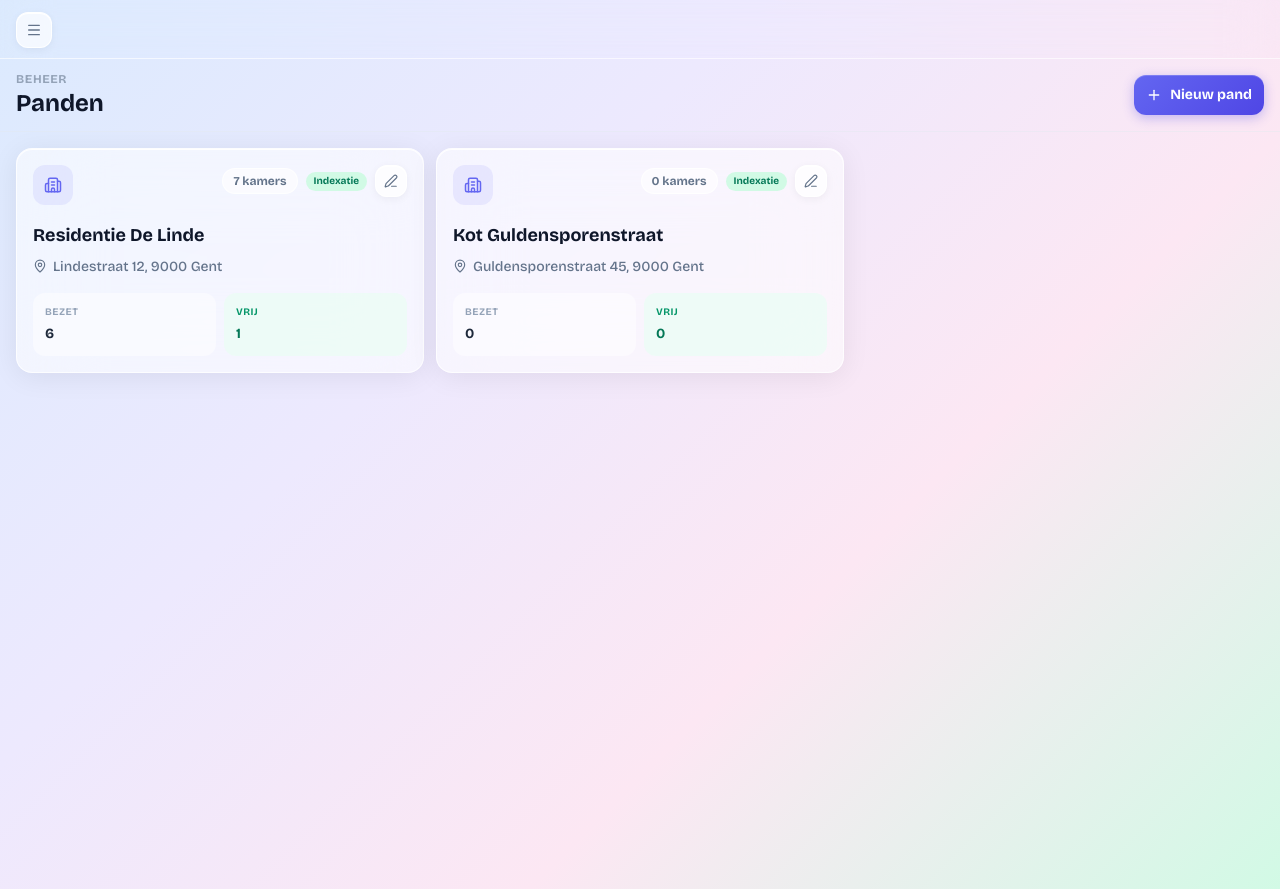
Test: PropertiesPage › voegt een kamer toe aan een bestaand pand
The image size is (1280, 889).
Click the button with aria-label "Open Residentie De Linde" at (119,235), box x1=33 y1=221 x2=407 y2=356
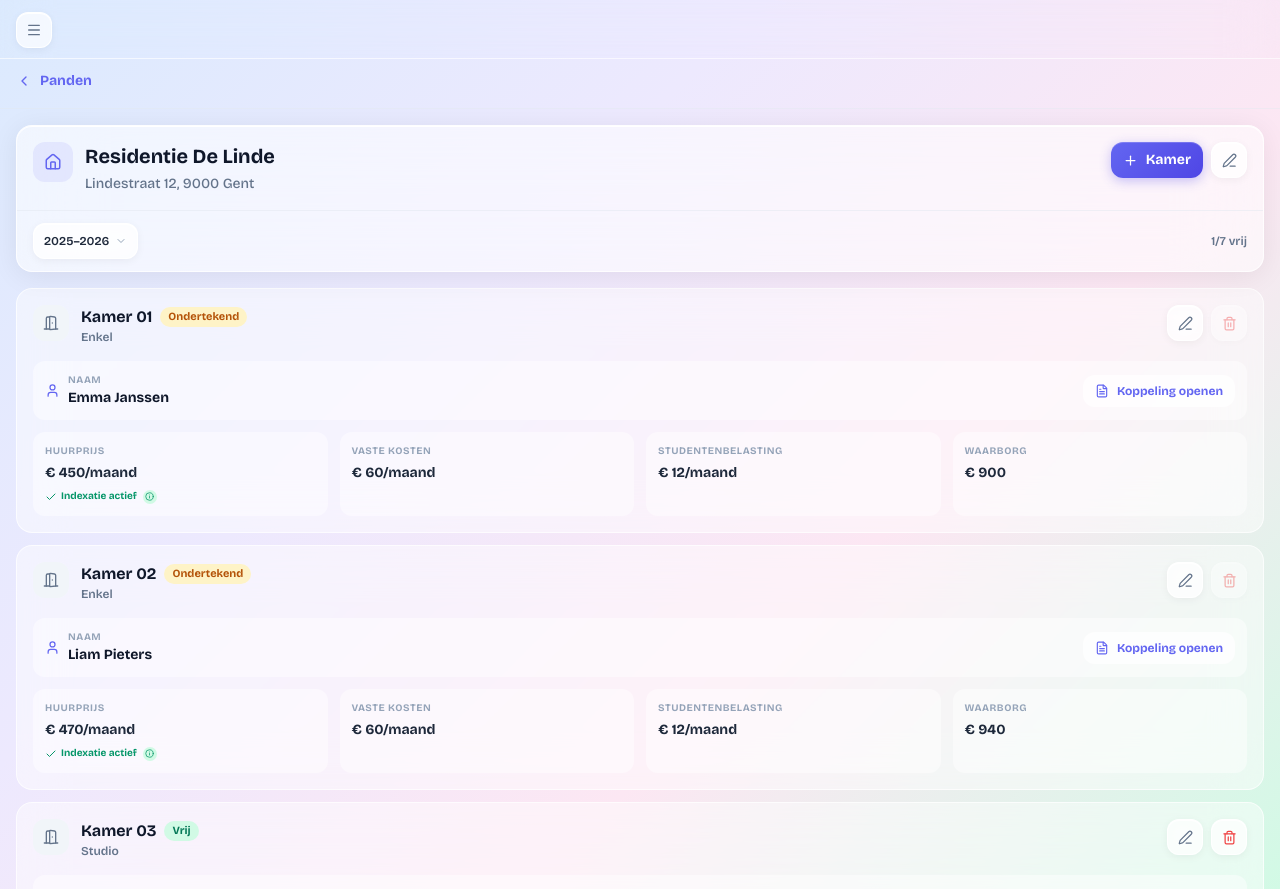
Click the button "Kamer" at (1157,160), box x1=1111 y1=142 x2=1203 y2=178
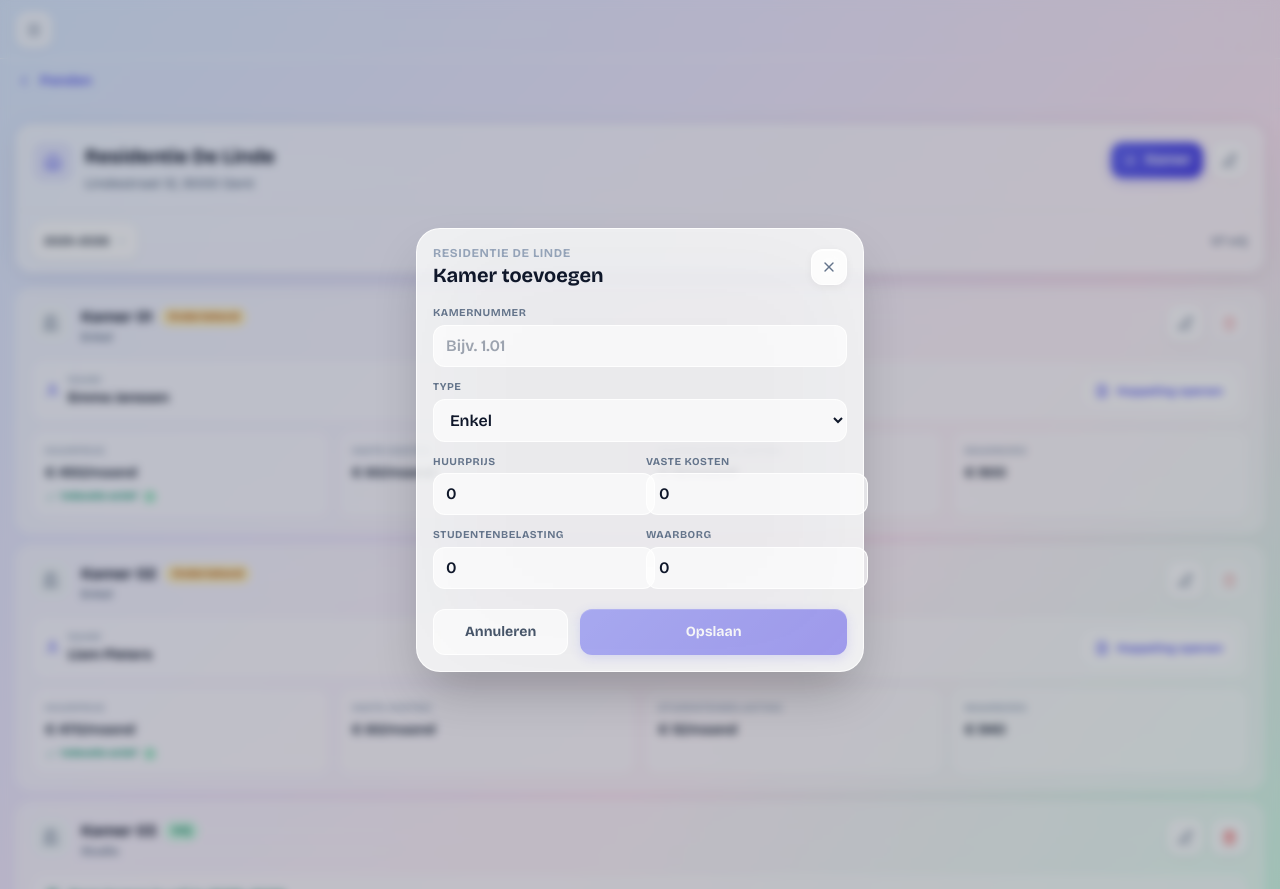
Type "08" into the field labelled "Kamernummer" at (640,346), box x1=433 y1=325 x2=847 y2=367
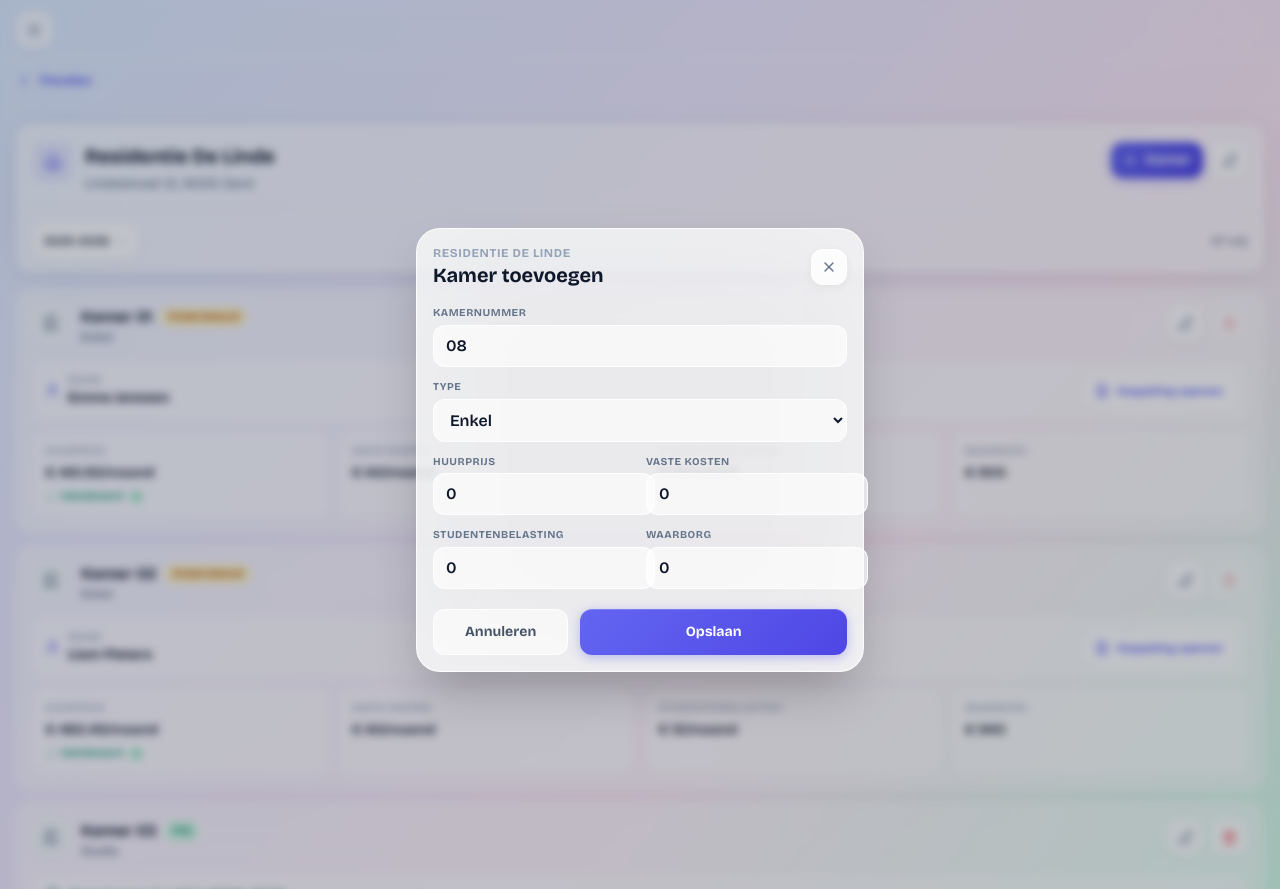
Replace the text in the number field labelled "Huurprijs" with "510" at (544,494), box x1=433 y1=473 x2=655 y2=515
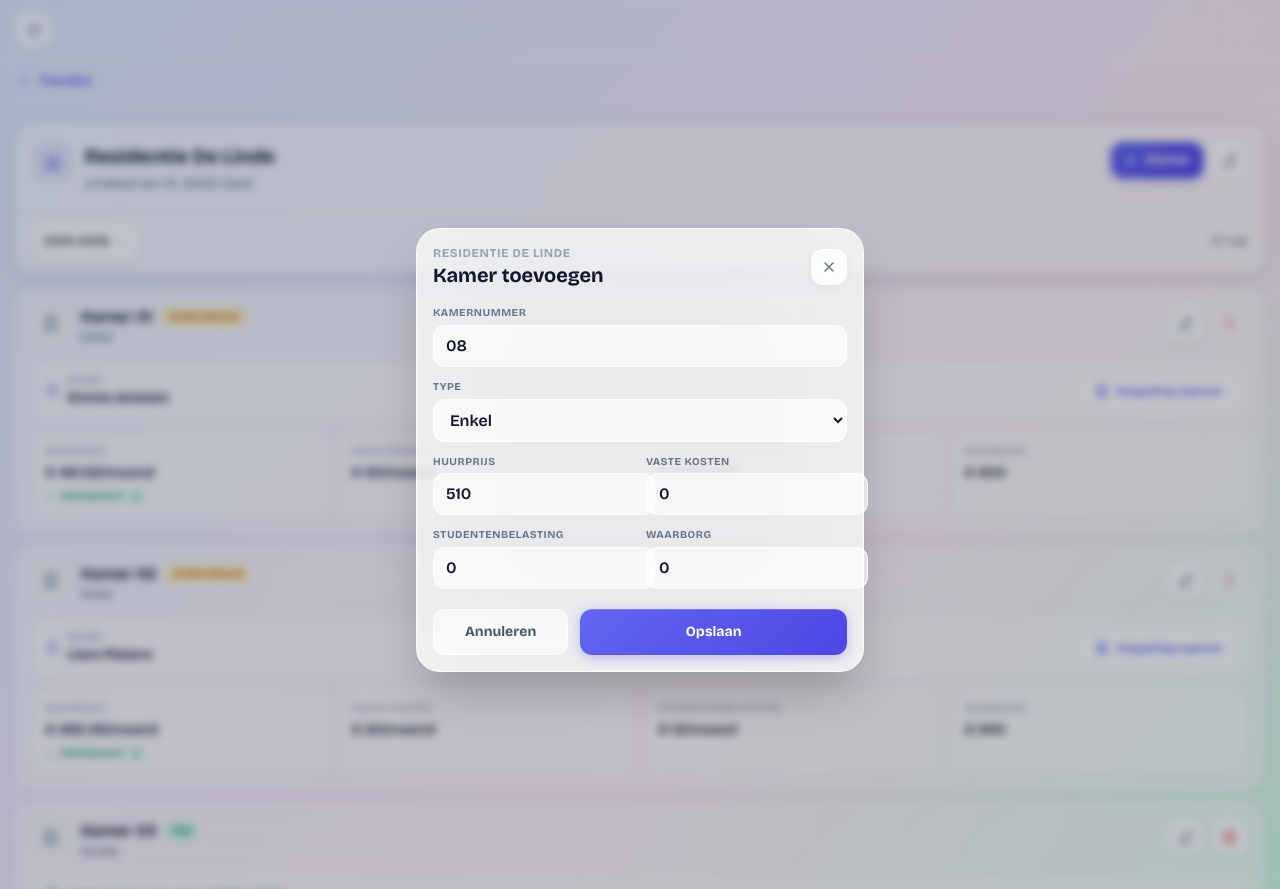
Click the button "Opslaan" at (714,632), box x1=580 y1=609 x2=847 y2=655
(page scrolled)
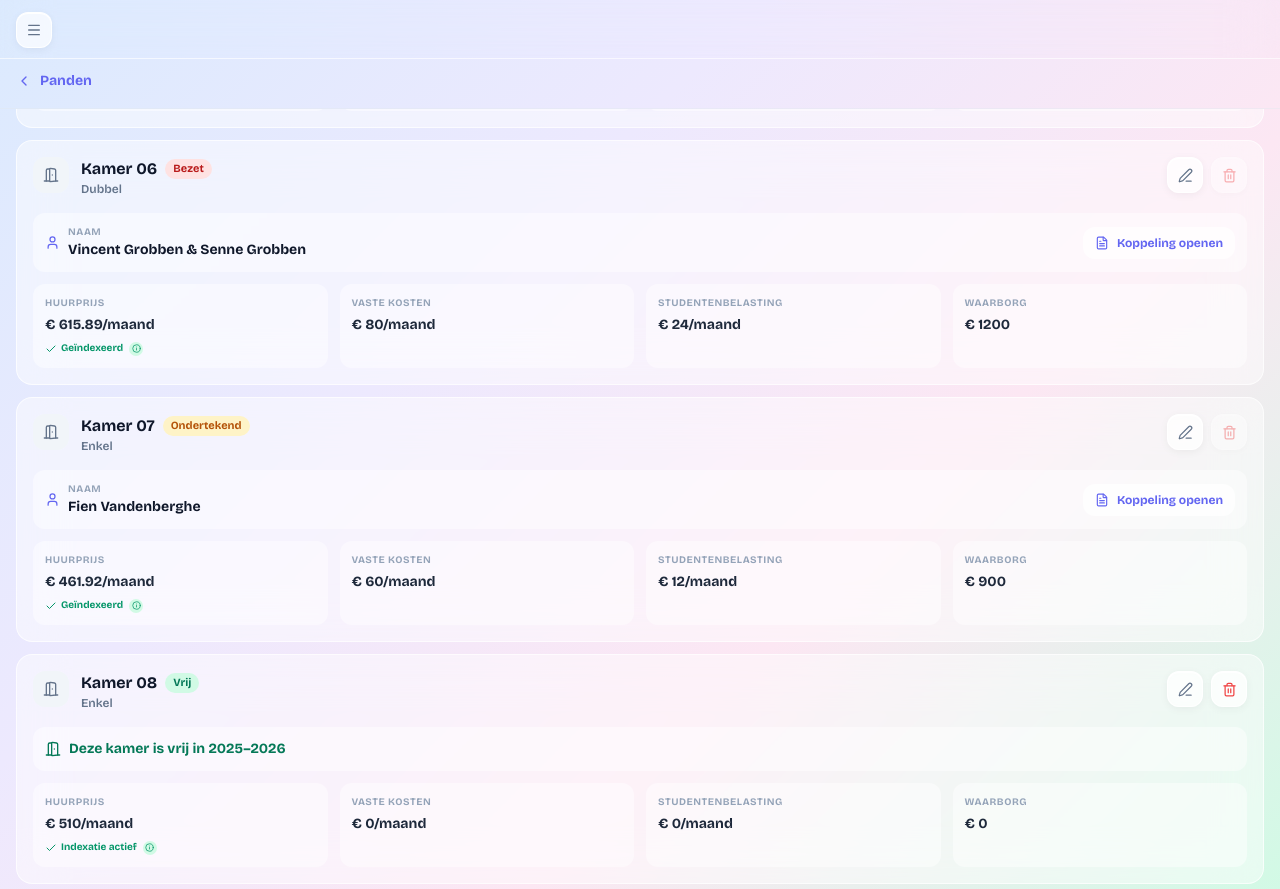
expect the heading "Kamer 08" is shown: met, box x1=81 y1=671 x2=157 y2=695
